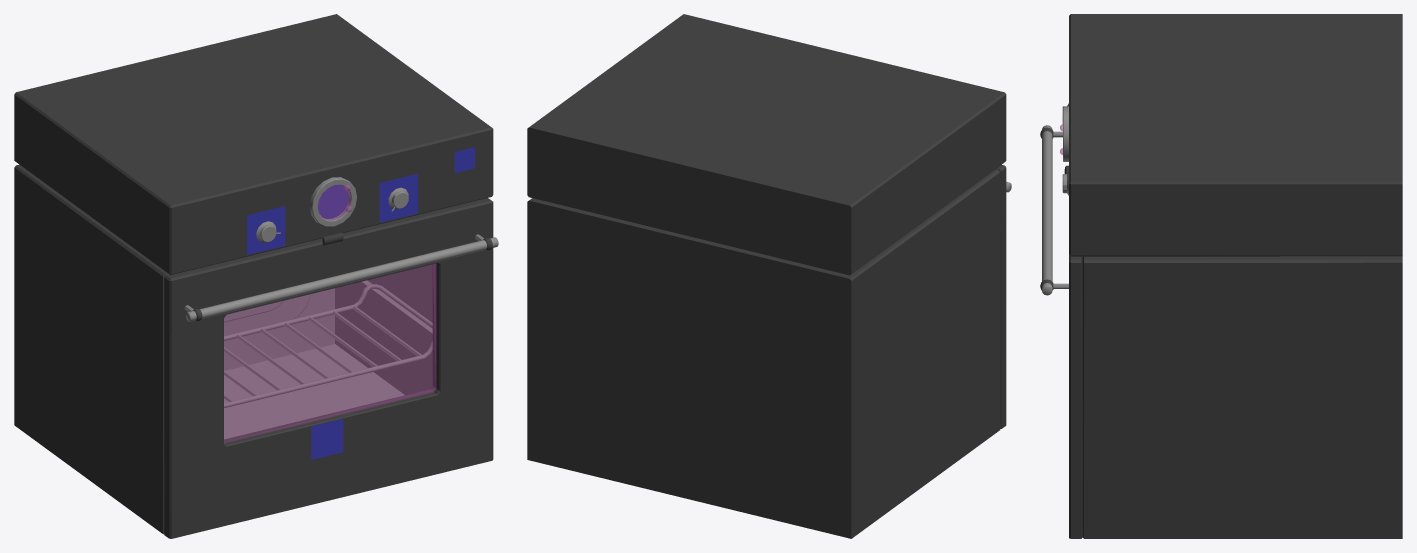
Rendered from MumsigObiM50AnBuiltInOven.FBX.
3 views of the same model, side by side, from view 1: azimuth 30°, elevation 25°; view 2: azimuth 150°, elevation 25°; view 3: azimuth 270°, elevation 25° (orthographic). The views are drawn at different scales.
Visible parts, largest first — view 1: MumsigObiM50AnBuiltInOven; view 2: MumsigObiM50AnBuiltInOven; view 3: MumsigObiM50AnBuiltInOven.
Part boxes in pixels (x1=…): MumsigObiM50AnBuiltInOven: x1=14, y1=14, x2=498, y2=538; MumsigObiM50AnBuiltInOven: x1=527, y1=14, x2=1011, y2=538; MumsigObiM50AnBuiltInOven: x1=1040, y1=14, x2=1402, y2=538.
Size of the model in its own units: 59.5 by 53.79 by 59.5.
